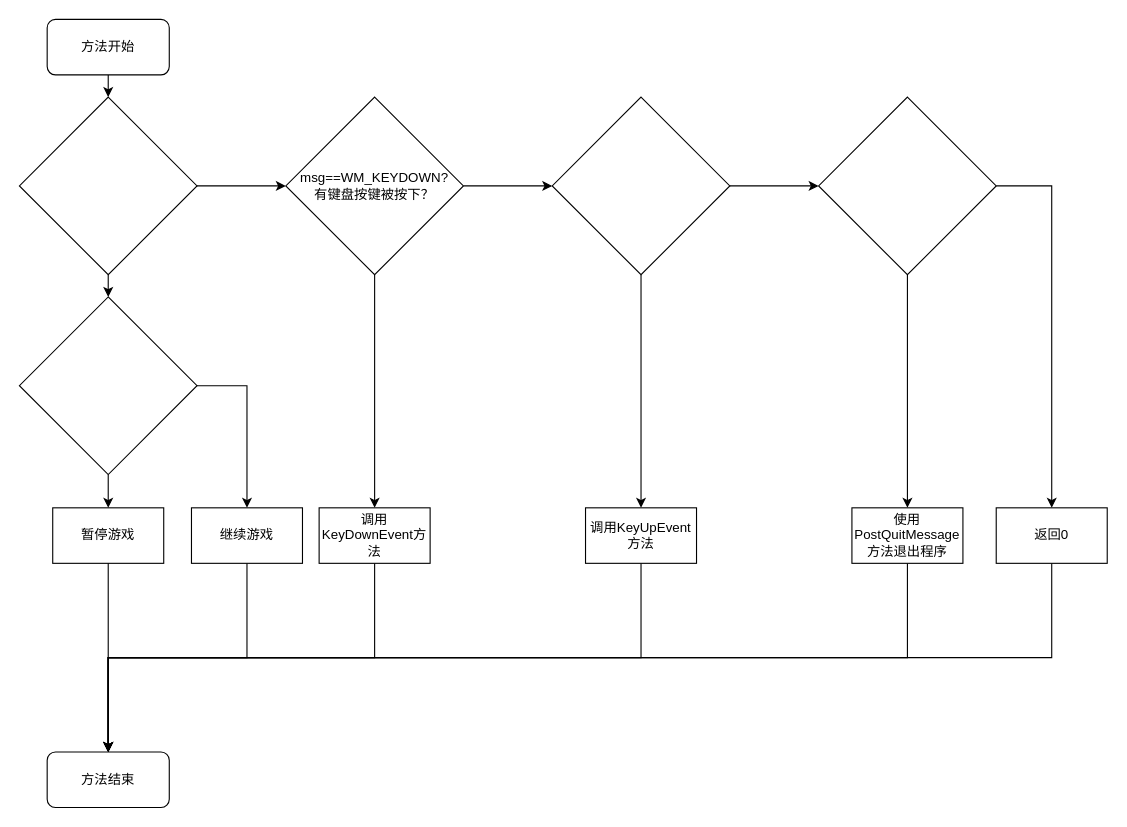
Image size: 1127x827. Some labels were removed from this diagram. Each missing label, with the centre of its shape:
"LOWORD(wParam) ==WA_INACTIVE? （如果是的话表示窗口被隐藏，否则表示窗口被激活）" belongs at pixel 107 385.
"msg==WM_ACTIVATE? 检测是否窗口被调用到后台" belongs at pixel 107 185.
"msg==WM_DESTORY? 应用程序即将退出" belongs at pixel 907 185.
"msg==WM_KEYUP? 有键盘按键被松开？" belongs at pixel 640 185.
